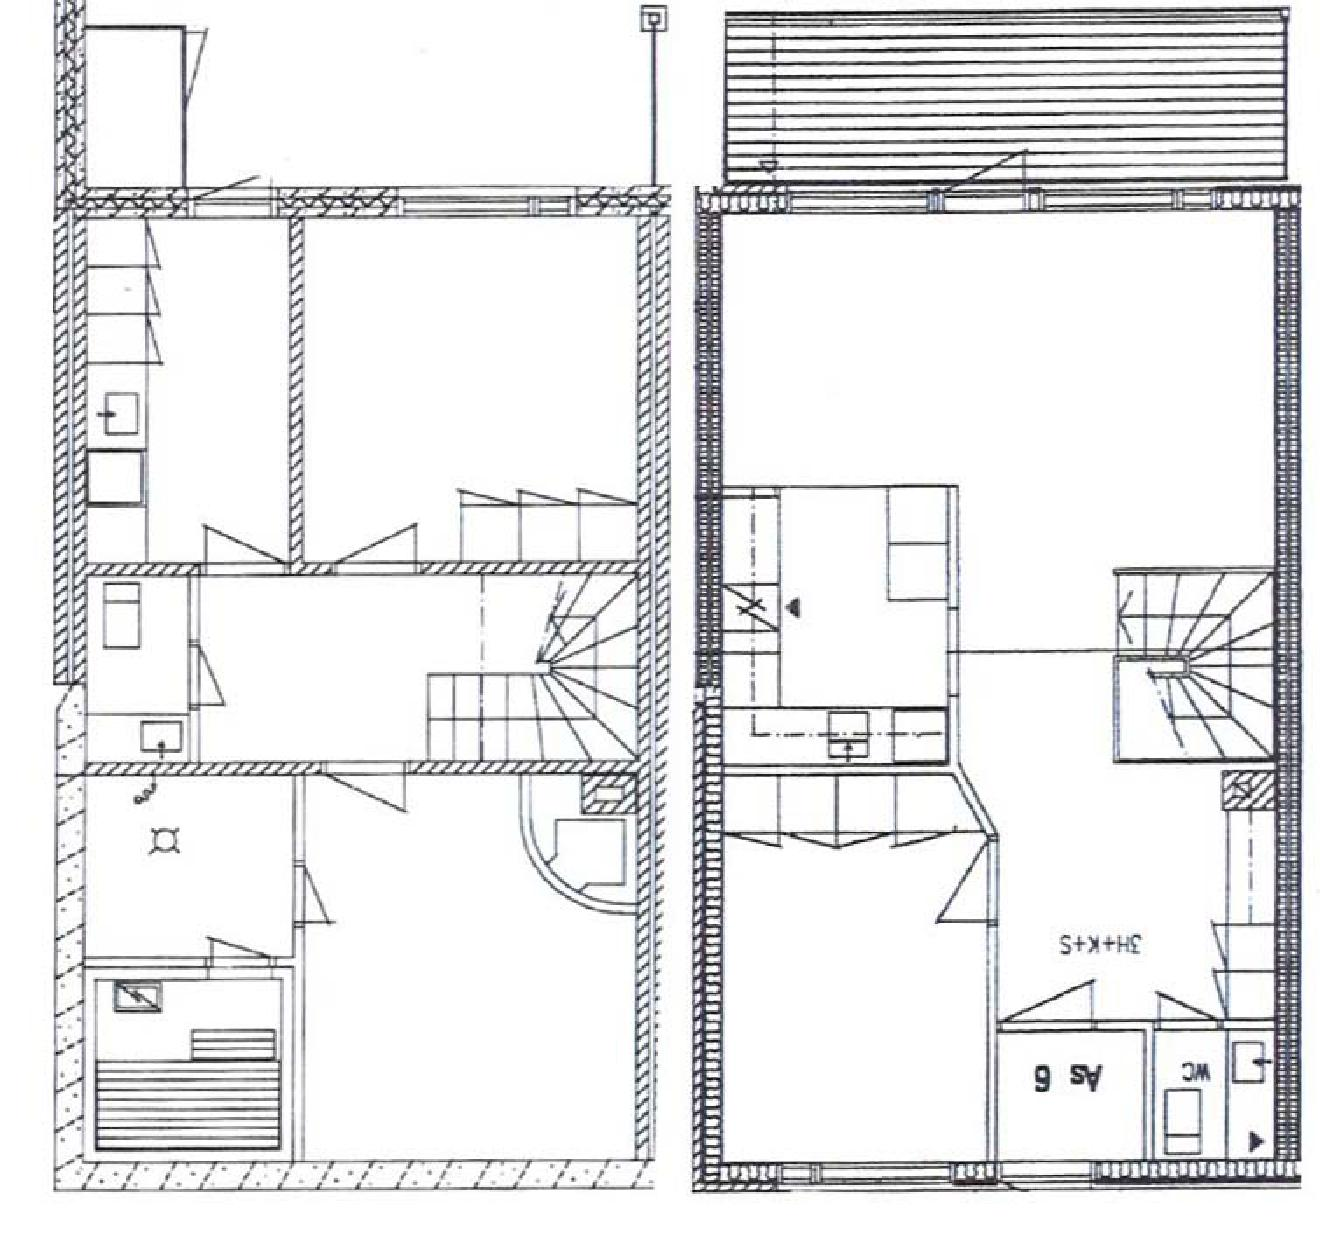door: (722, 215, 1277, 1016), (304, 771, 643, 1158), (299, 218, 631, 561), (725, 769, 1002, 1158), (79, 2, 650, 182), (730, 10, 1289, 181), (193, 577, 634, 755), (91, 214, 290, 555), (86, 775, 293, 958), (91, 980, 277, 1143), (91, 579, 191, 755), (1003, 1033, 1143, 1155), (1157, 1023, 1274, 1154)
window: (938, 831, 1009, 933), (330, 520, 426, 583), (946, 145, 1030, 210), (199, 520, 294, 577), (321, 759, 410, 815), (1011, 977, 1097, 1033), (210, 930, 289, 982), (179, 31, 229, 110), (185, 642, 234, 718), (286, 862, 333, 926), (1154, 991, 1215, 1026)
zone: (395, 186, 573, 218), (774, 1160, 955, 1186), (794, 184, 934, 213), (1043, 193, 1219, 215), (191, 189, 282, 218), (995, 1158, 1091, 1181)
